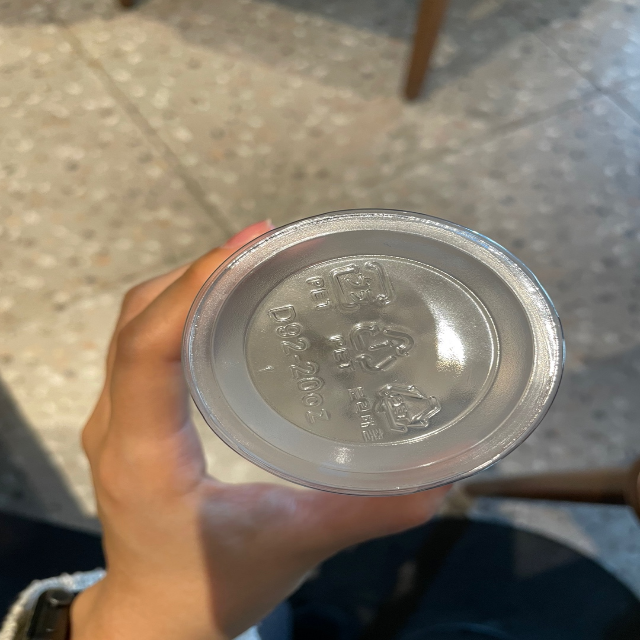pet: (346, 371, 444, 443), (301, 254, 400, 322), (329, 314, 421, 379)
